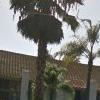Palm tree: (18, 1, 65, 92)
